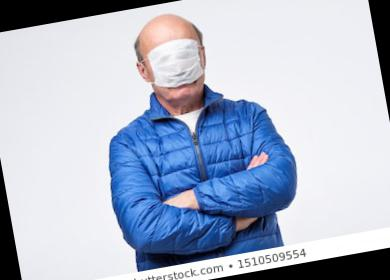mask_weared_incorrect: (138, 26, 213, 100)
